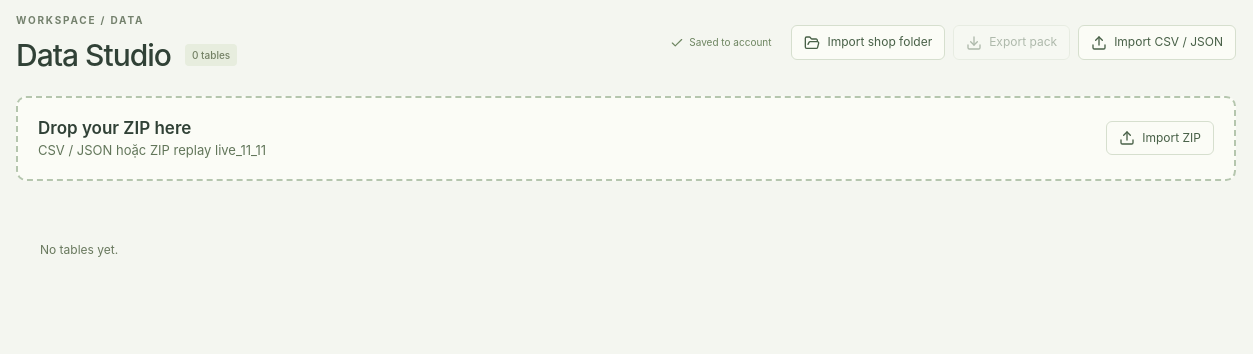
Test: keeps the current data when loading fails and allows retry
Click the button "Import shop folder" at (868, 43), box [792,25,945,60]
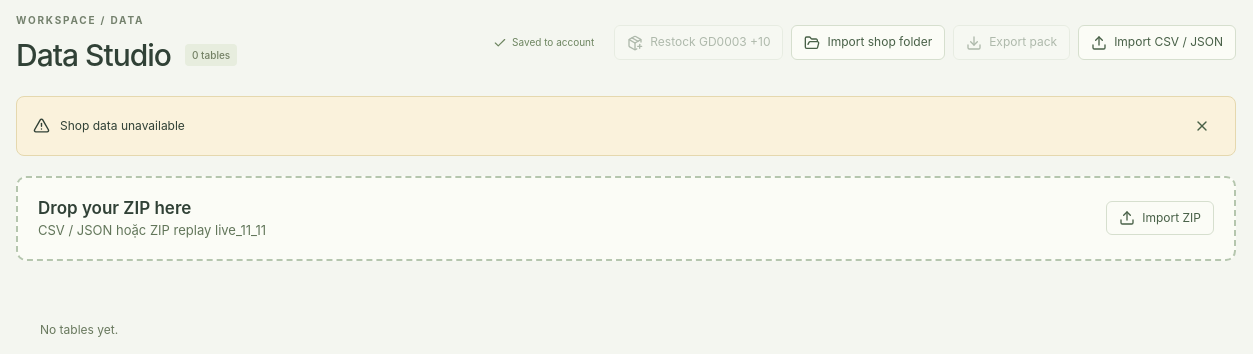
Now the text "Shop data unavailable" is shown, box [60,118,185,132]
